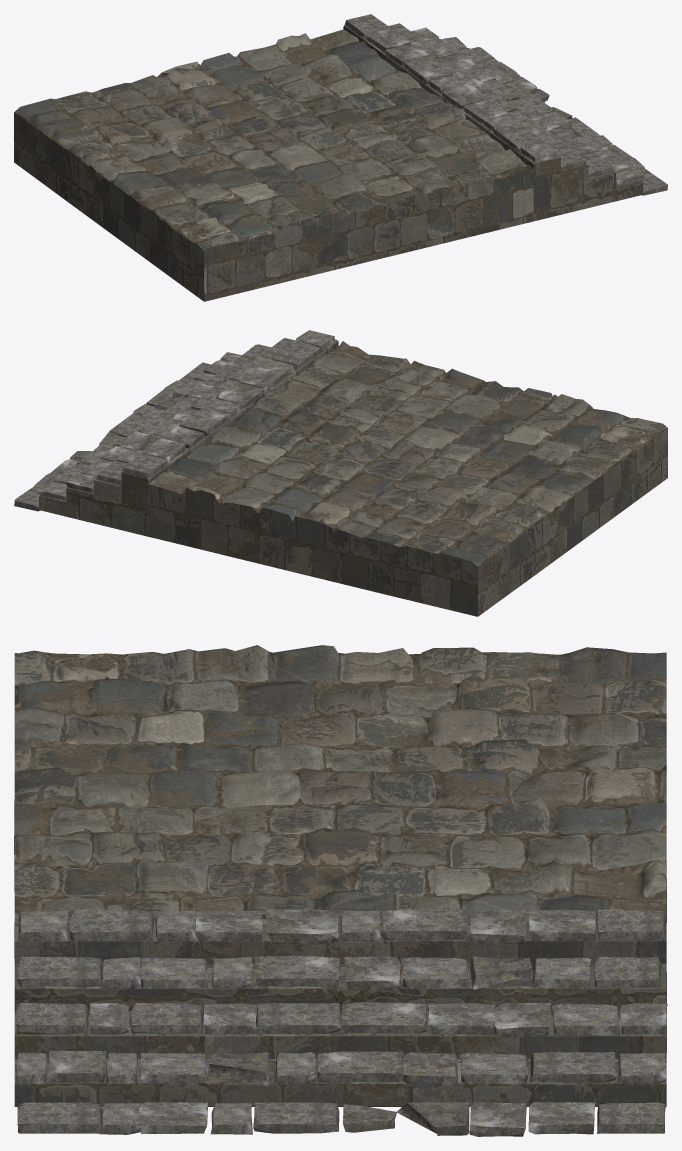
The model's file is SM_Walkway_3x4_01.fbx.
The picture shows the model from 3 angles, top to bottom: view 1: azimuth 30°, elevation 25°; view 2: azimuth 150°, elevation 25°; view 3: azimuth 270°, elevation 25°; orthographic projection. The views are drawn at different scales.
Visible parts, largest first — view 1: SM_Walkway_3x4_01_LOD0; view 2: SM_Walkway_3x4_01_LOD0; view 3: SM_Walkway_3x4_01_LOD0.
Boxes of the visible parts, <box> form: SM_Walkway_3x4_01_LOD0: <box>14,14,667,301</box>; SM_Walkway_3x4_01_LOD0: <box>14,330,667,616</box>; SM_Walkway_3x4_01_LOD0: <box>14,645,667,1136</box>.
Bounding box in the file's own units: 427 × 301 × 57.65.
